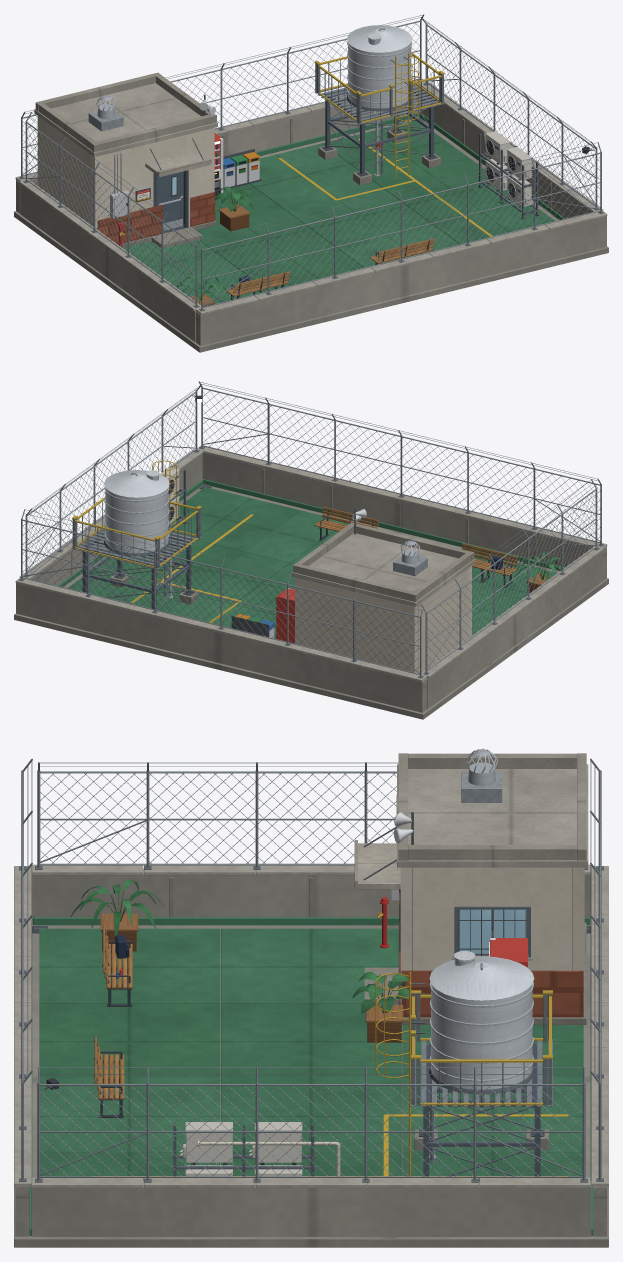
Rendered from kr_school_rooftop_hero.glb.
The picture shows the model from 3 angles, top to bottom: view 1: azimuth 30°, elevation 25°; view 2: azimuth 150°, elevation 25°; view 3: azimuth 270°, elevation 25°; orthographic projection. The views are drawn at different scales.
Visible parts, largest first — view 1: BG_Floor, BG_Wall_North, BG_Wall_South, BG_Props_Clutter, BG_Wall_West, BG_Wall_East, BG_Furniture_Hero; view 2: BG_Wall_North, BG_Floor, BG_Wall_South, BG_Props_Clutter, BG_Wall_West, BG_Wall_East, BG_Furniture_Hero; view 3: BG_Floor, BG_Wall_North, BG_Wall_East, BG_Props_Clutter, BG_Wall_West, BG_Furniture_Hero, BG_Wall_South, BG_Ceiling.
Part boxes in pixels (bbox=[...]): BG_Floor: bbox=[14, 117, 608, 352]; BG_Wall_North: bbox=[15, 14, 425, 248]; BG_Wall_South: bbox=[196, 142, 607, 345]; BG_Props_Clutter: bbox=[88, 25, 594, 299]; BG_Wall_West: bbox=[19, 112, 202, 342]; BG_Wall_East: bbox=[419, 17, 603, 219]; BG_Furniture_Hero: bbox=[176, 133, 434, 306]; BG_Wall_North: bbox=[15, 509, 475, 712]; BG_Floor: bbox=[14, 484, 608, 719]; BG_Wall_South: bbox=[197, 381, 607, 580]; BG_Props_Clutter: bbox=[71, 395, 512, 638]; BG_Wall_West: bbox=[420, 479, 603, 709]; BG_Wall_East: bbox=[19, 384, 203, 586]; BG_Furniture_Hero: bbox=[276, 506, 566, 643]; BG_Floor: bbox=[14, 924, 608, 1247]; BG_Wall_North: bbox=[354, 753, 608, 1236]; BG_Wall_East: bbox=[31, 1067, 591, 1236]; BG_Props_Clutter: bbox=[45, 748, 552, 1178]; BG_Wall_West: bbox=[32, 762, 590, 925]; BG_Furniture_Hero: bbox=[70, 879, 527, 1099]; BG_Wall_South: bbox=[14, 758, 32, 1236]; BG_Ceiling: bbox=[459, 909, 526, 956].
Size of the model in its own units: 14 by 4.49 by 11.
Materials: 4 (4 with a texture image).
